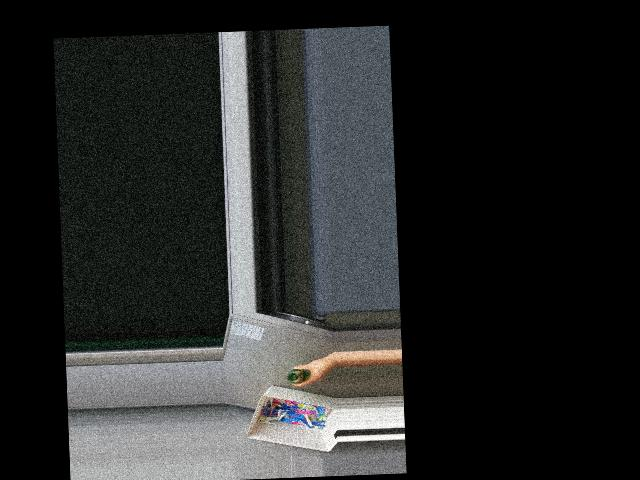beer: (286, 368, 307, 383)
